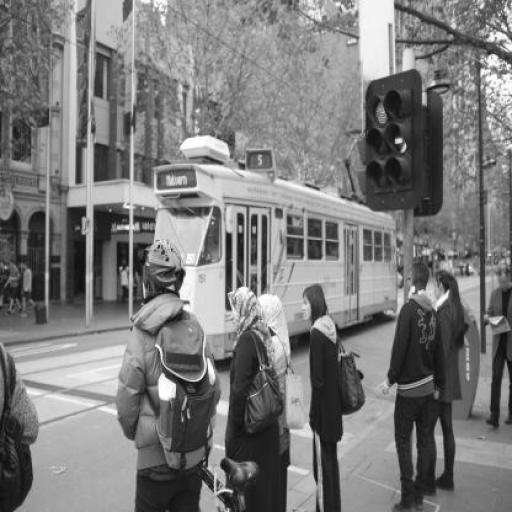street light: (426, 70, 487, 353)
